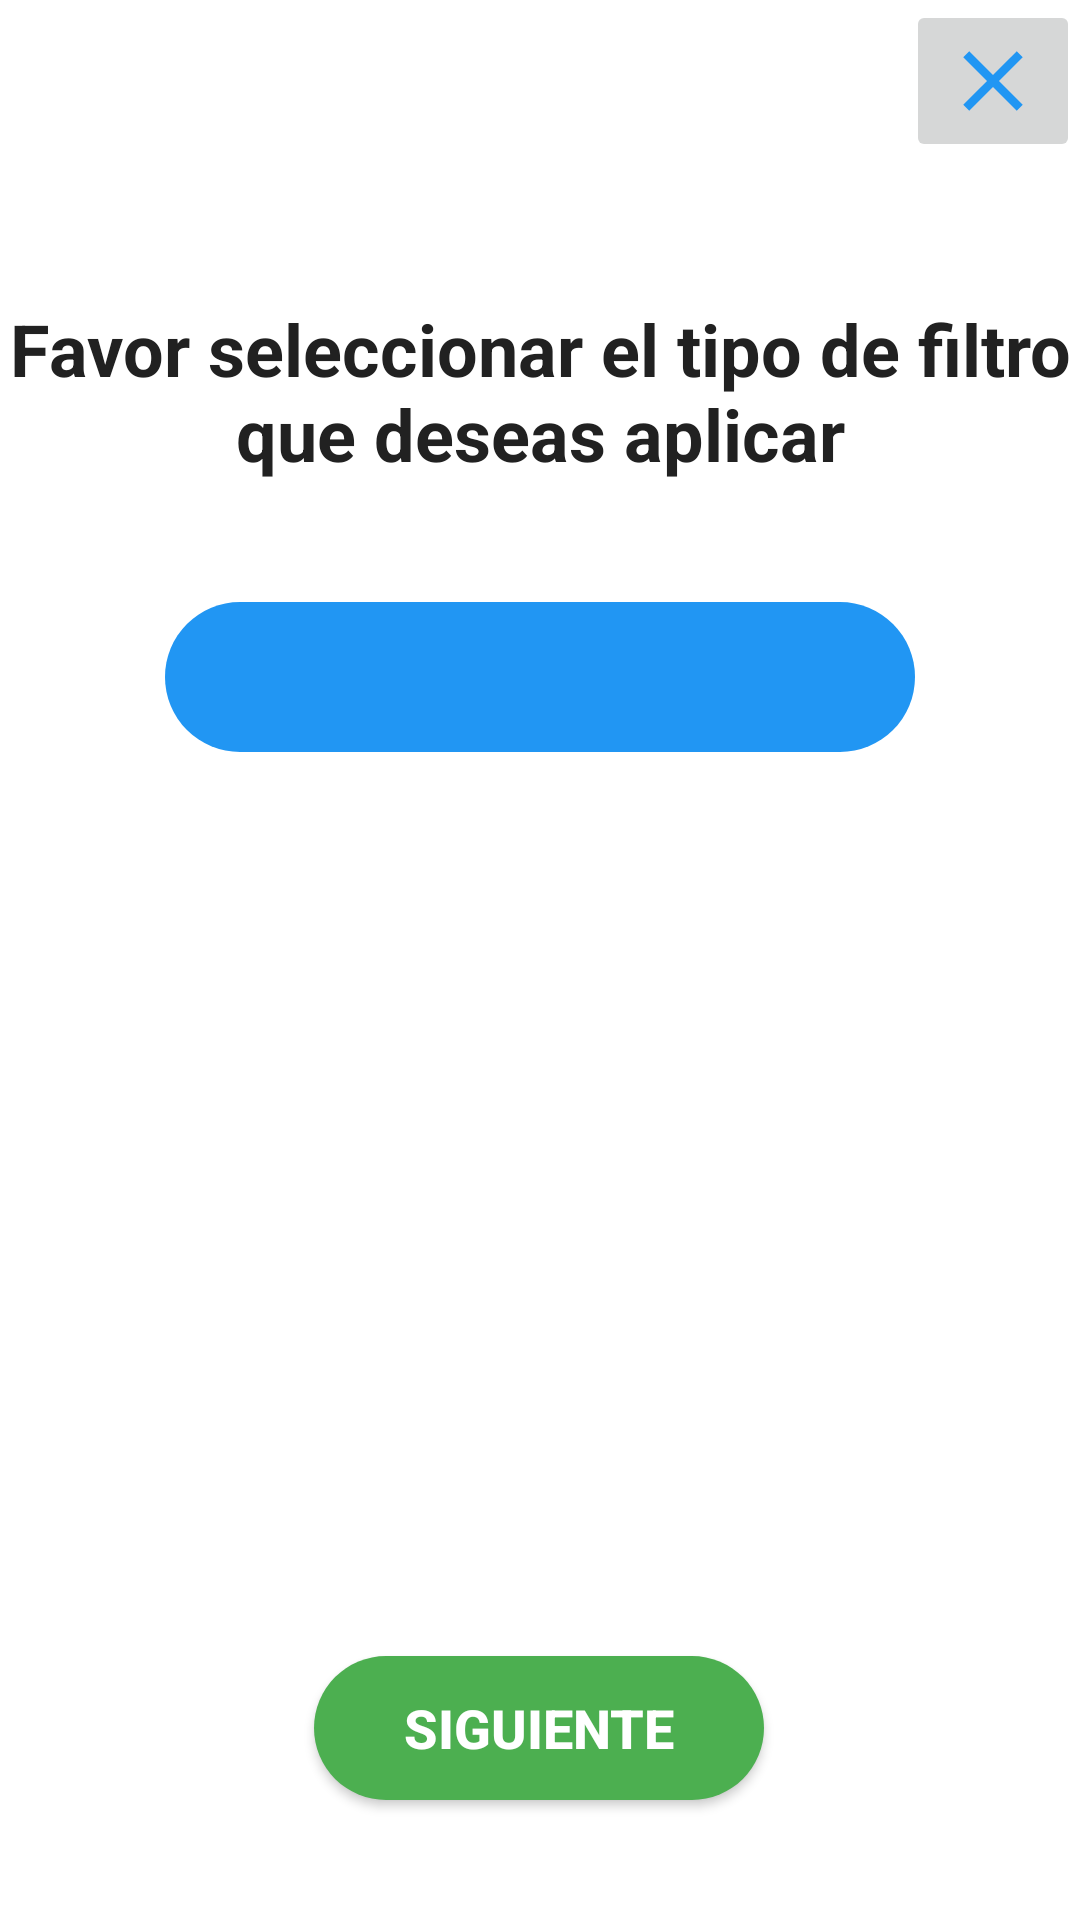

Where to tap for icons on this 1080px x 1920px app screen, as (x=x, y=y):
close: (x=993, y=81)
